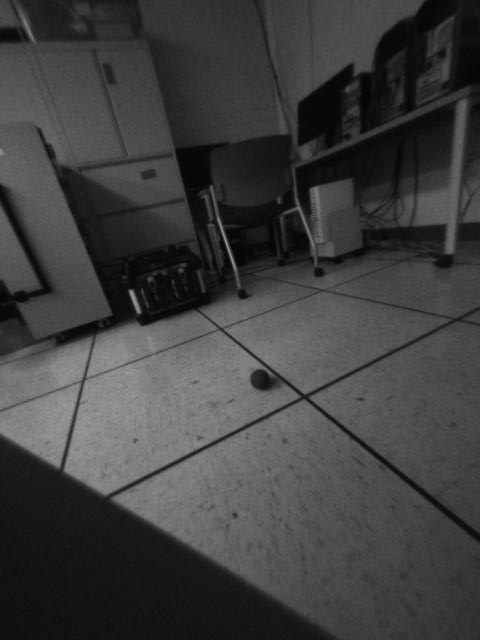dogtoy: (248, 364, 277, 392)
